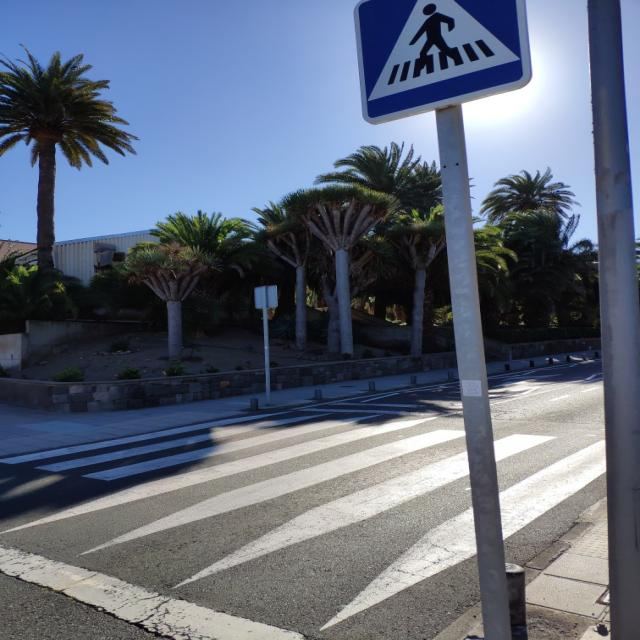Palm-Trees: (0, 49, 138, 272)
